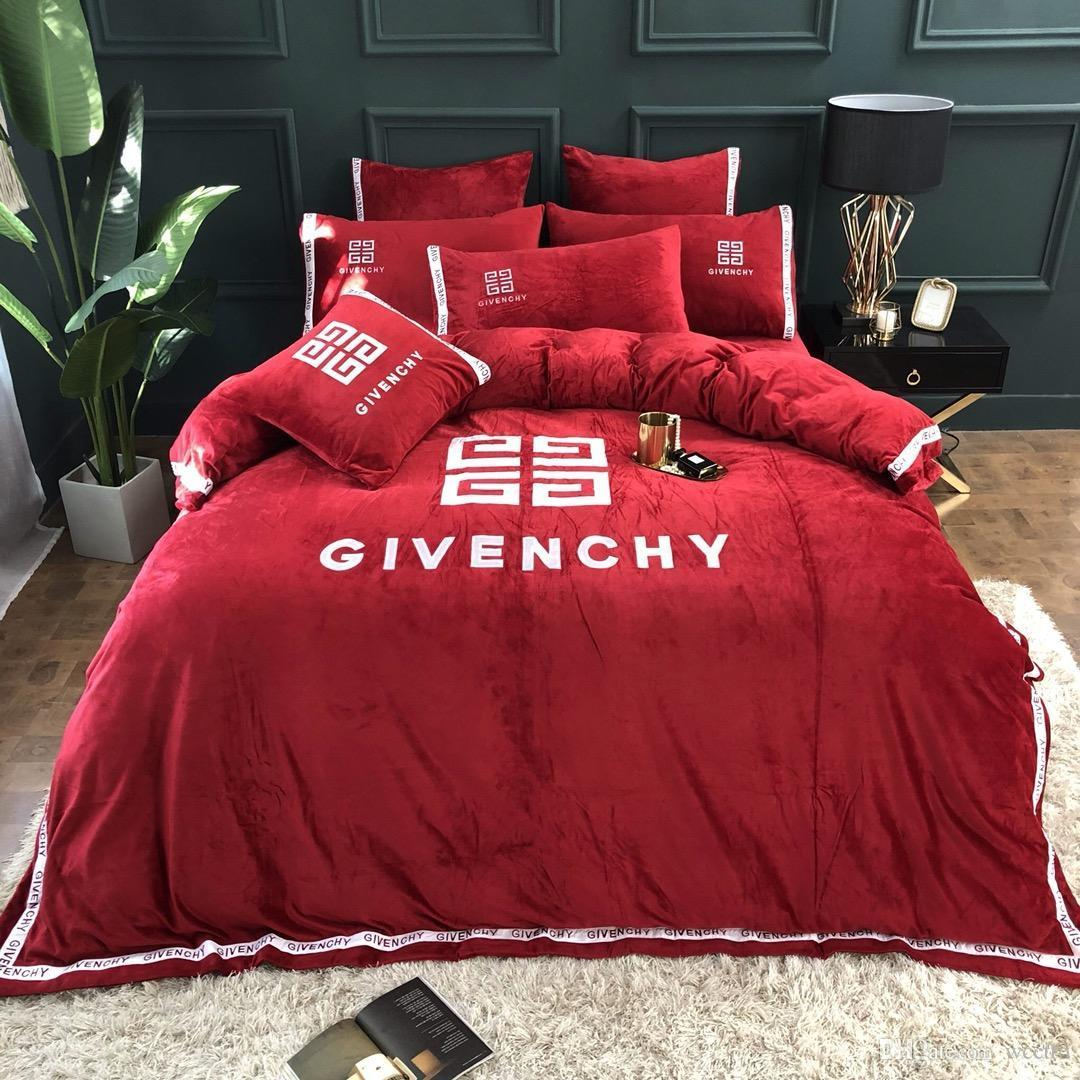bed: (178, 77, 920, 912)
